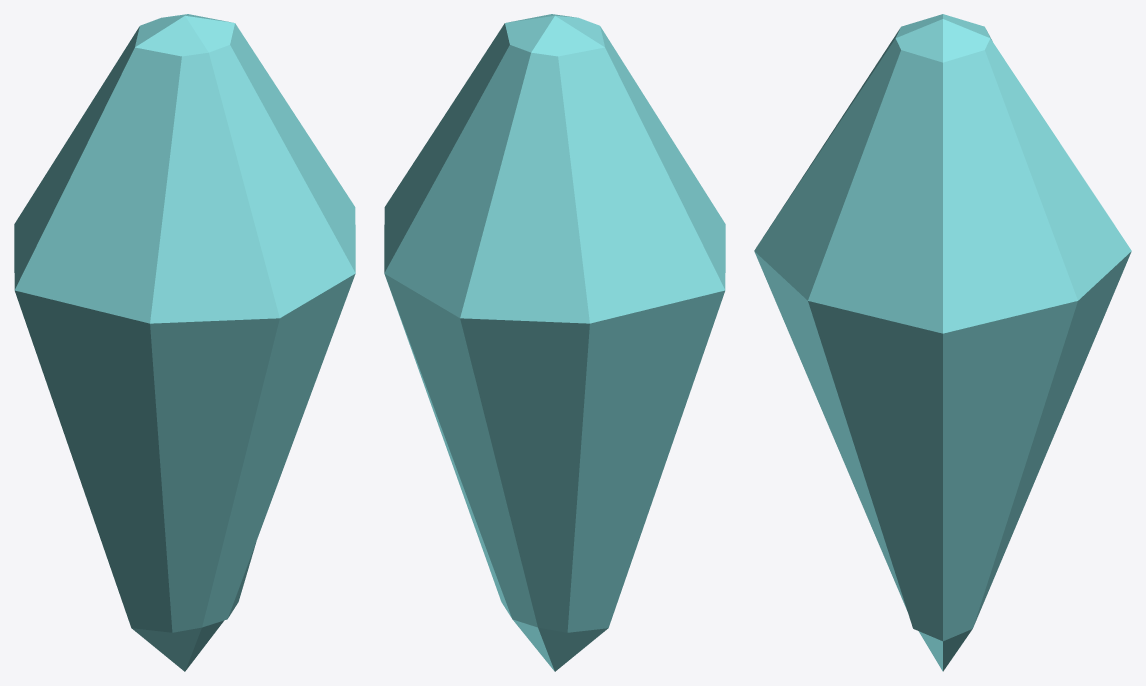
File: TalonCrystal.glb
The picture shows the model from 3 angles, left to right: view 1: azimuth 30°, elevation 25°; view 2: azimuth 150°, elevation 25°; view 3: azimuth 270°, elevation 25°; orthographic projection.
Visible parts, largest first — view 1: Cube; view 2: Cube; view 3: Cube.
Boxes of the visible parts, x1=… form: Cube: x1=14, y1=14, x2=355, y2=671; Cube: x1=384, y1=14, x2=725, y2=671; Cube: x1=754, y1=14, x2=1131, y2=671.
Bounding box in the file's own units: 1.02 × 1.87 × 0.98.
